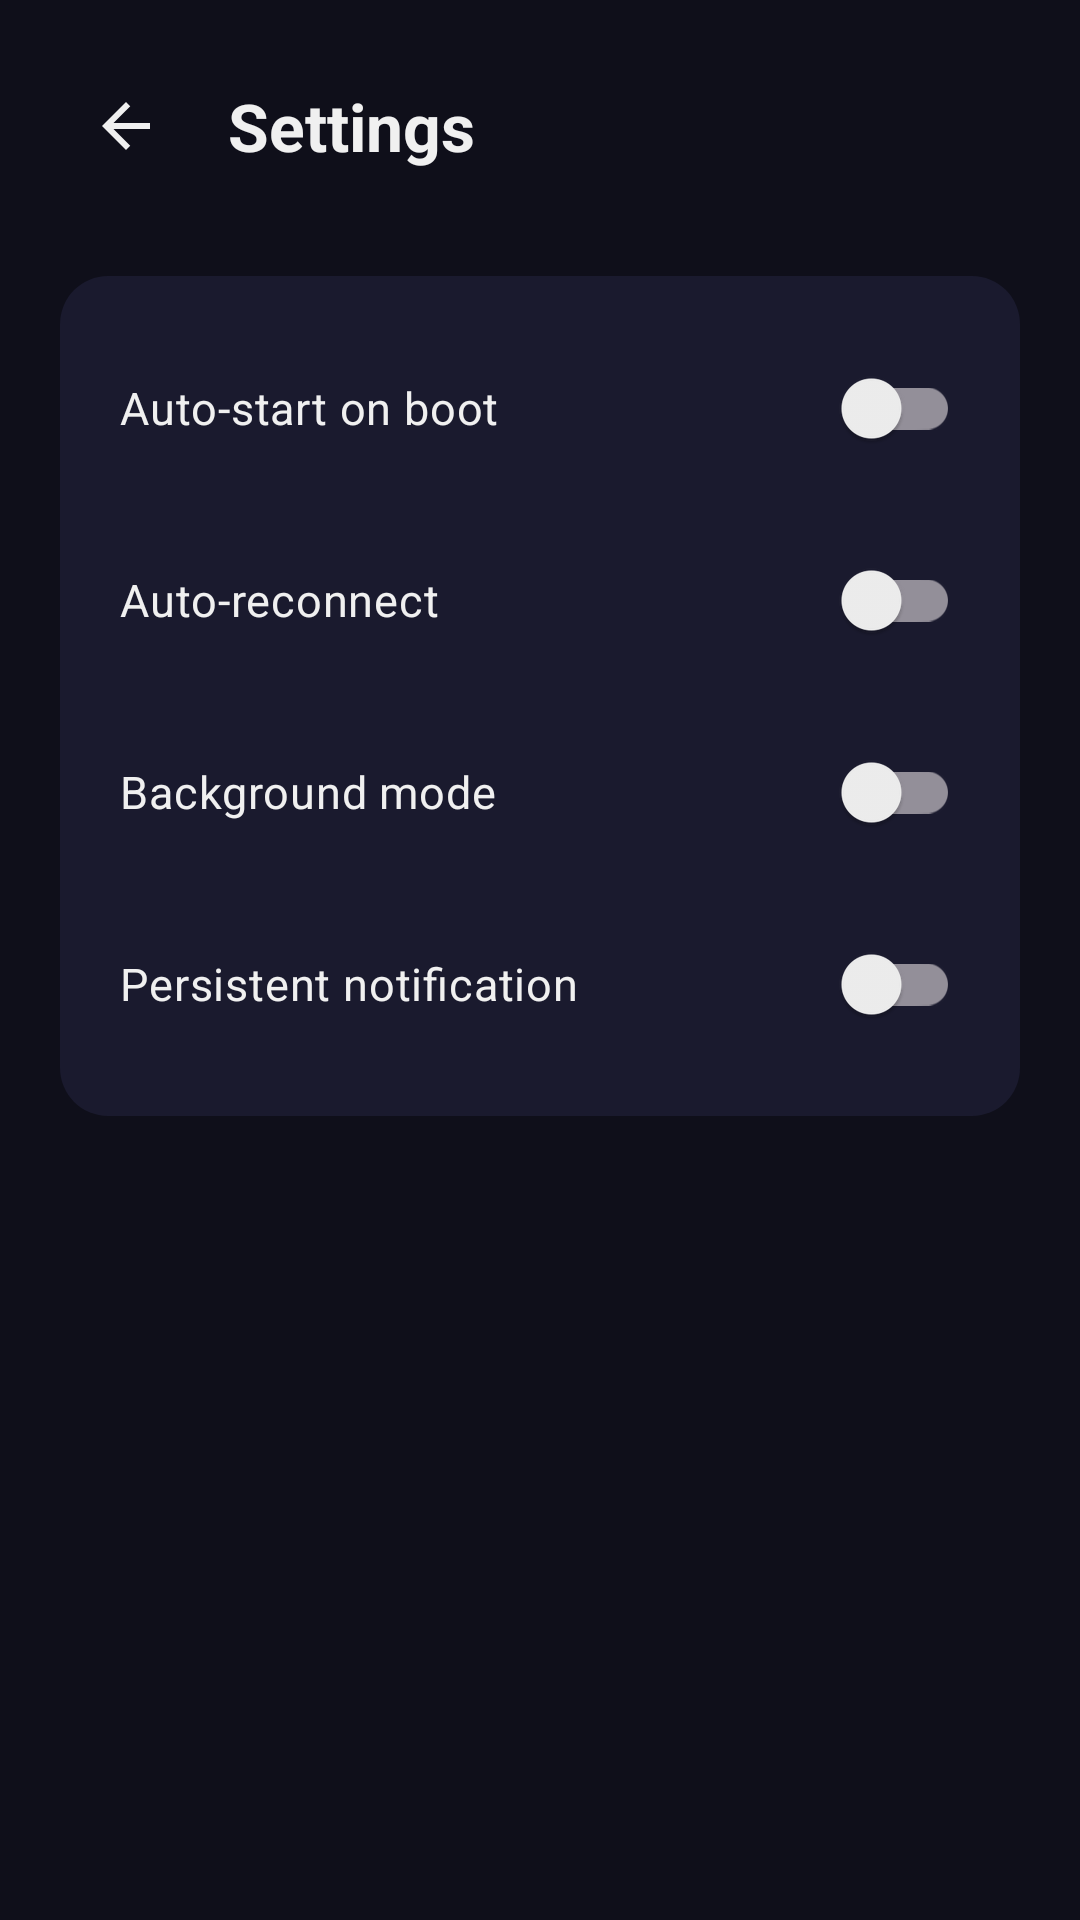

Screen size 1080px×1920px. Icon name, then its box in pixels as (left=x1, top=y1, right=x2, bottom=y2):
Back: (left=102, top=102, right=150, bottom=150)
